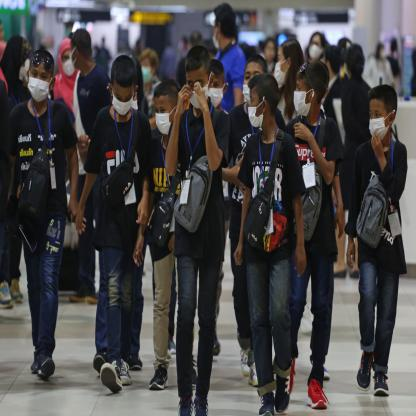Not_Wearing_Mask: (265, 42, 274, 62)
Wearing_Mask: (185, 66, 210, 110), (28, 64, 53, 106), (368, 102, 393, 140), (112, 78, 134, 119), (153, 95, 174, 136), (290, 78, 312, 115), (248, 89, 263, 129), (275, 42, 290, 81), (310, 30, 326, 58), (212, 17, 225, 48), (242, 64, 253, 99), (60, 42, 71, 75), (140, 53, 152, 81)
